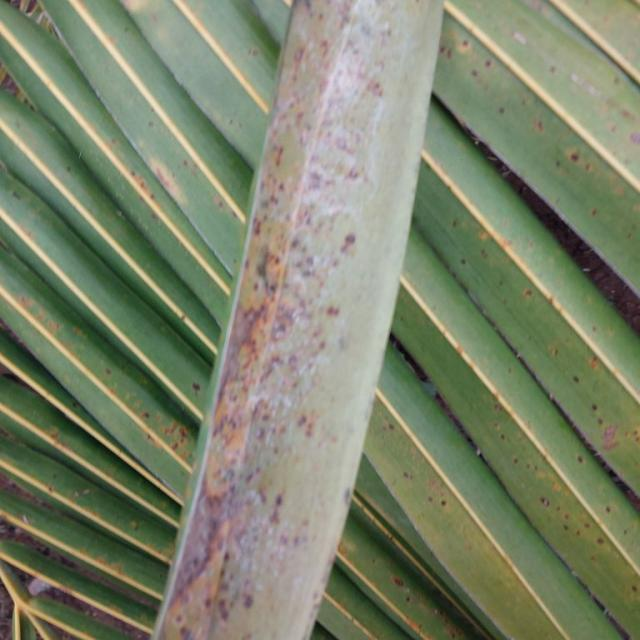gray leaf spot: (156, 1, 447, 640)
